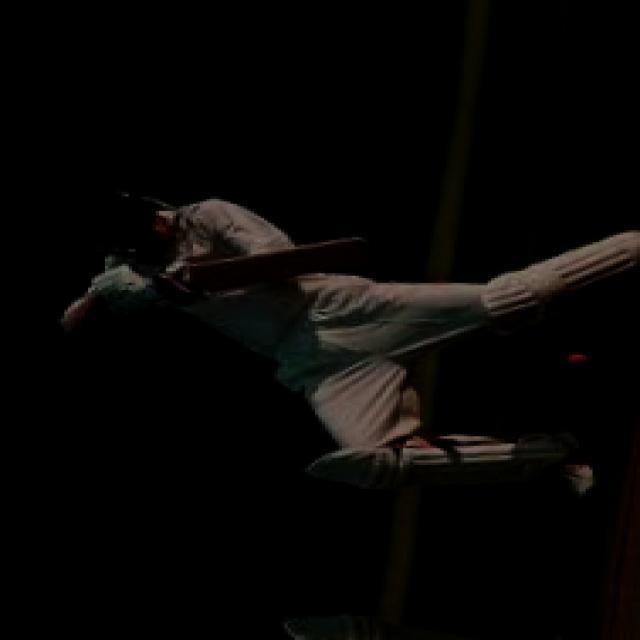bat: (155, 219, 387, 290)
toe: (358, 228, 378, 267)
